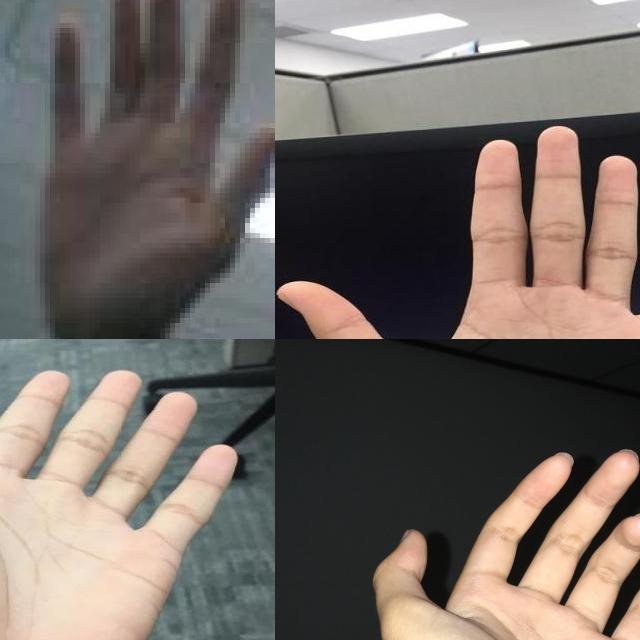hand: (40, 0, 275, 339), (280, 121, 640, 339), (0, 366, 240, 640), (373, 449, 640, 640)
